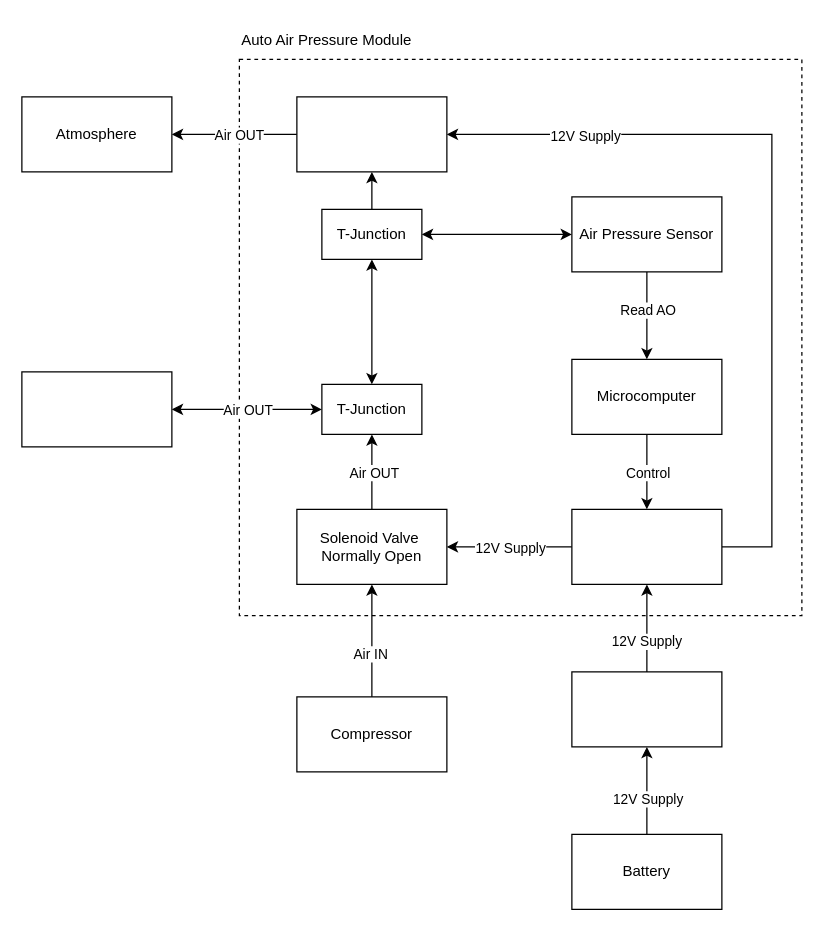
The diagram is 824 pixels wide and 931 high, and some of its shapes have lost their labels. The centre of each missing label's shape, as x and y in pixels:
"Controllable Relay" goes at point (646, 546).
"Fuse Block" goes at point (646, 709).
"Solenoid Valve Normally Closed" goes at point (371, 134).
"Tyre Air Pressure" goes at point (96, 409).
